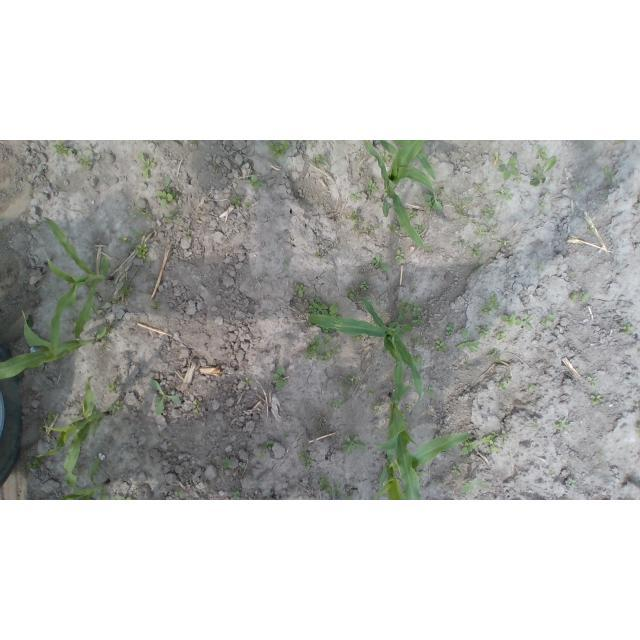Maize: (310, 297, 423, 401), (41, 216, 116, 357), (363, 141, 436, 252), (1, 311, 108, 382), (376, 336, 420, 500), (373, 434, 475, 500), (36, 375, 112, 458), (58, 424, 110, 501), (372, 141, 437, 182)
Weeds: (150, 380, 180, 417), (530, 156, 556, 186), (457, 327, 480, 353), (497, 157, 519, 181), (138, 153, 156, 182), (318, 475, 340, 497), (342, 435, 367, 454), (390, 317, 413, 337), (480, 293, 499, 315), (268, 141, 290, 160), (299, 442, 313, 470), (305, 337, 322, 360), (52, 140, 76, 156), (397, 302, 422, 317), (462, 478, 487, 493), (156, 190, 179, 206), (308, 297, 328, 315), (274, 367, 289, 389), (423, 194, 441, 212), (452, 199, 469, 218), (482, 435, 498, 454), (116, 277, 132, 296), (500, 314, 521, 328), (347, 210, 361, 231), (491, 430, 509, 446), (372, 253, 388, 271), (495, 187, 514, 201), (341, 375, 358, 390), (321, 347, 339, 361), (259, 441, 274, 457), (76, 156, 92, 171), (246, 175, 262, 190), (461, 441, 477, 456), (568, 291, 589, 302), (134, 244, 148, 260), (164, 208, 180, 222), (310, 154, 327, 167), (619, 321, 634, 335), (134, 207, 153, 218), (330, 302, 343, 318), (480, 206, 496, 219), (602, 166, 616, 180), (366, 179, 378, 195), (540, 315, 554, 328), (451, 237, 469, 247), (555, 419, 570, 431), (537, 144, 548, 160), (476, 326, 489, 339), (372, 402, 385, 415), (317, 326, 335, 335), (295, 285, 307, 298), (487, 348, 500, 360), (107, 401, 121, 412), (436, 340, 447, 354), (523, 314, 532, 331), (27, 459, 42, 469), (590, 395, 604, 405), (108, 379, 118, 393), (25, 313, 34, 328), (231, 196, 243, 207), (587, 377, 597, 390), (38, 426, 48, 439), (470, 247, 483, 257), (330, 399, 343, 409), (343, 491, 357, 500), (497, 238, 511, 247), (412, 354, 422, 366), (388, 224, 401, 233), (410, 337, 423, 346), (446, 323, 455, 336), (359, 227, 373, 235), (133, 228, 144, 238), (395, 249, 405, 260), (380, 153, 390, 164), (323, 336, 333, 347), (222, 457, 231, 469), (412, 317, 424, 326), (462, 359, 472, 369), (360, 281, 370, 291), (350, 193, 362, 201), (119, 237, 132, 244), (539, 203, 548, 213), (46, 414, 56, 423), (100, 307, 109, 317), (241, 378, 251, 387), (283, 257, 292, 267), (348, 289, 357, 299), (496, 332, 506, 341), (426, 386, 435, 396), (452, 466, 461, 476), (110, 296, 121, 304), (115, 495, 132, 500), (193, 399, 199, 413), (498, 382, 507, 391), (574, 183, 583, 192), (536, 264, 545, 273), (414, 226, 423, 235), (105, 326, 115, 334), (475, 229, 485, 237), (165, 177, 172, 188), (587, 225, 596, 233), (28, 223, 37, 231), (232, 492, 240, 501), (174, 491, 183, 499), (314, 250, 323, 258), (475, 261, 483, 270), (352, 335, 364, 341), (507, 373, 514, 383), (569, 478, 576, 488), (153, 298, 160, 308), (548, 467, 556, 475), (84, 144, 93, 151), (410, 210, 417, 219), (366, 389, 375, 396), (416, 471, 425, 478), (613, 140, 625, 145), (528, 383, 536, 389), (569, 272, 578, 277), (532, 423, 539, 429), (282, 431, 289, 437), (245, 201, 252, 207), (636, 425, 640, 435), (436, 189, 444, 194), (543, 190, 552, 194), (189, 140, 198, 144), (406, 405, 412, 411), (344, 394, 349, 401), (402, 413, 407, 420), (633, 400, 639, 405), (439, 480, 445, 485), (350, 478, 356, 483), (186, 232, 191, 238), (307, 322, 313, 327), (376, 224, 381, 229), (575, 368, 580, 372), (433, 297, 437, 302), (637, 203, 640, 209), (141, 141, 147, 144), (498, 145, 502, 148)
